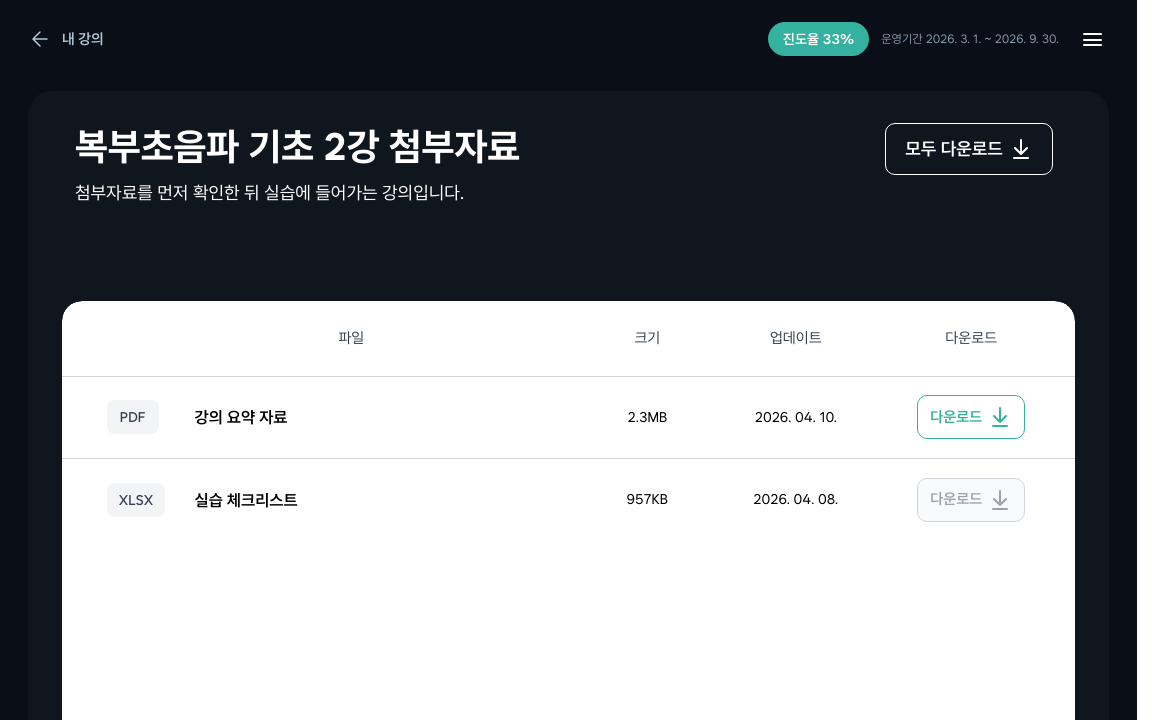
Test: PlayerPage › shows the current remaining download count in the resource download modal
The image size is (1152, 720).
Click the button "다운로드" next to "2026. 04. 10." at (971, 417), box [917,395,1025,439]
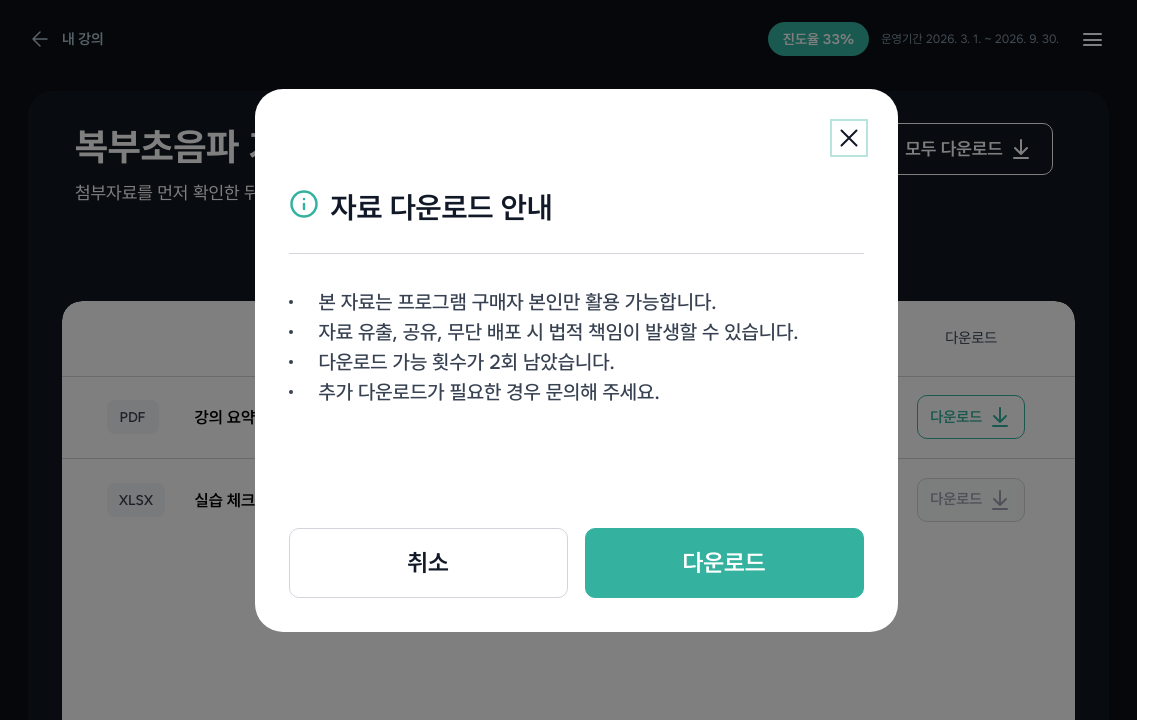
Now the list item "다운로드 가능 횟수가 2회 남았습니다." is shown, box [318,350,615,374]
